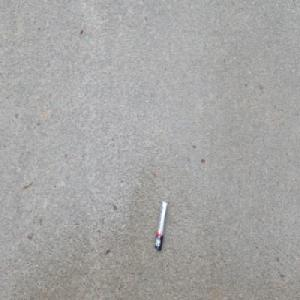Battery: (153, 197, 168, 253)
